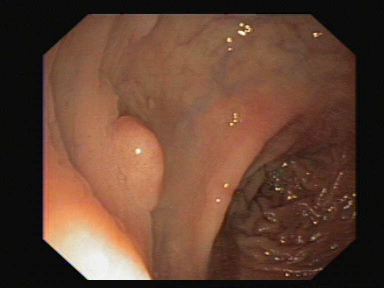polyp: (96, 108, 181, 214)
